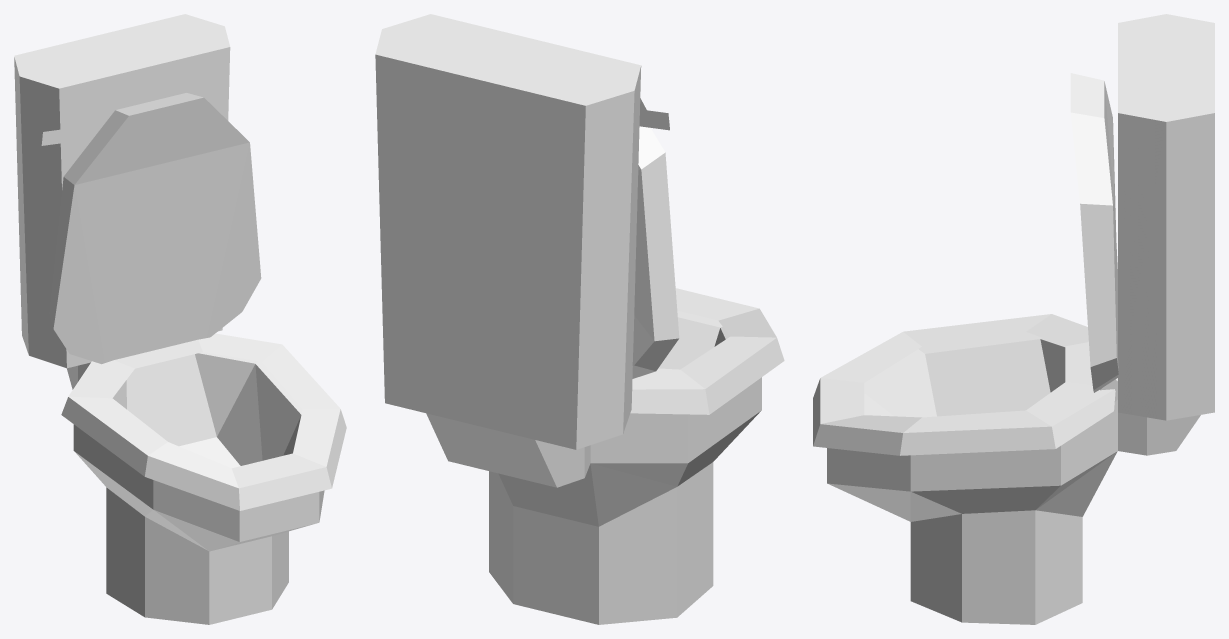
Rendered from toilet01.glb.
3 views of the same model, side by side, from view 1: azimuth 30°, elevation 25°; view 2: azimuth 150°, elevation 25°; view 3: azimuth 270°, elevation 25° (orthographic). The views are drawn at different scales.
Parts seen in each view (by area): view 1: toilet; view 2: toilet; view 3: toilet.
Boxes of the visible parts, x1,y1,x2,y2 form: toilet: (14, 14, 346, 624); toilet: (375, 14, 784, 624); toilet: (813, 14, 1214, 624).
Bounding box in the file's own units: 0.6509 × 1.33 × 0.9361.
Materials: 2 (2 with a texture image).
